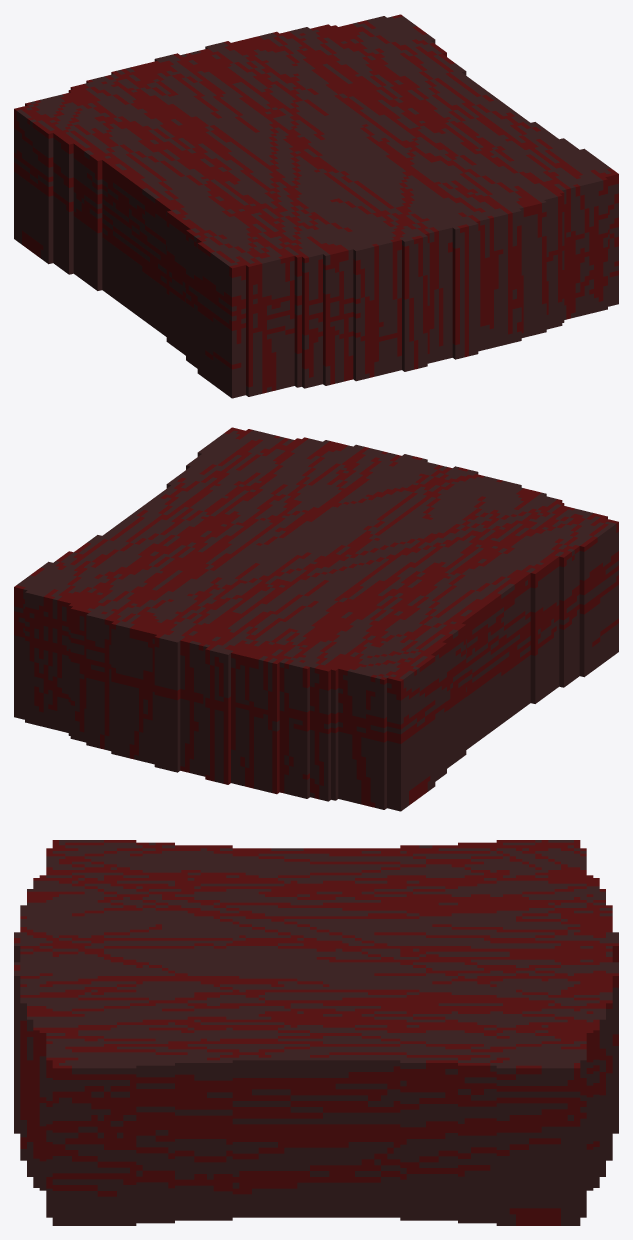
File: pedestal_button.obj
The picture shows the model from 3 angles, top to bottom: view 1: azimuth 30°, elevation 25°; view 2: azimuth 150°, elevation 25°; view 3: azimuth 270°, elevation 25°; orthographic projection. The views are drawn at different scales.
Size of the model in its own units: 8.4 by 2.7 by 9.4.
1 material, 1 textured.
